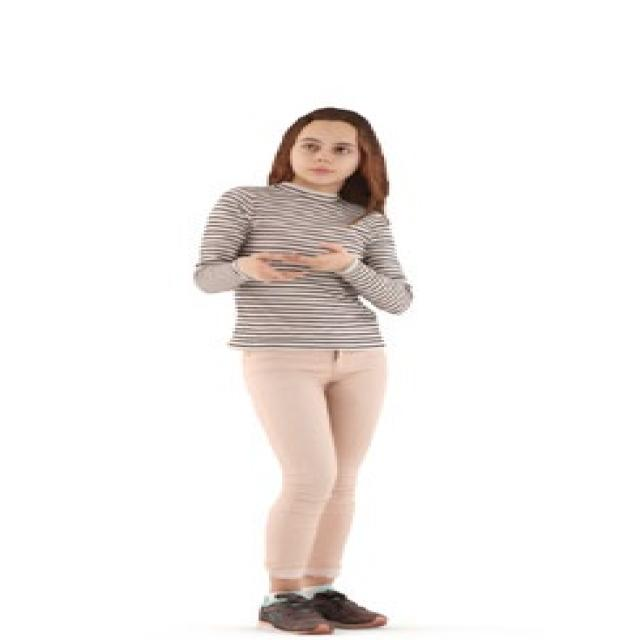standing: (189, 105, 415, 640)
